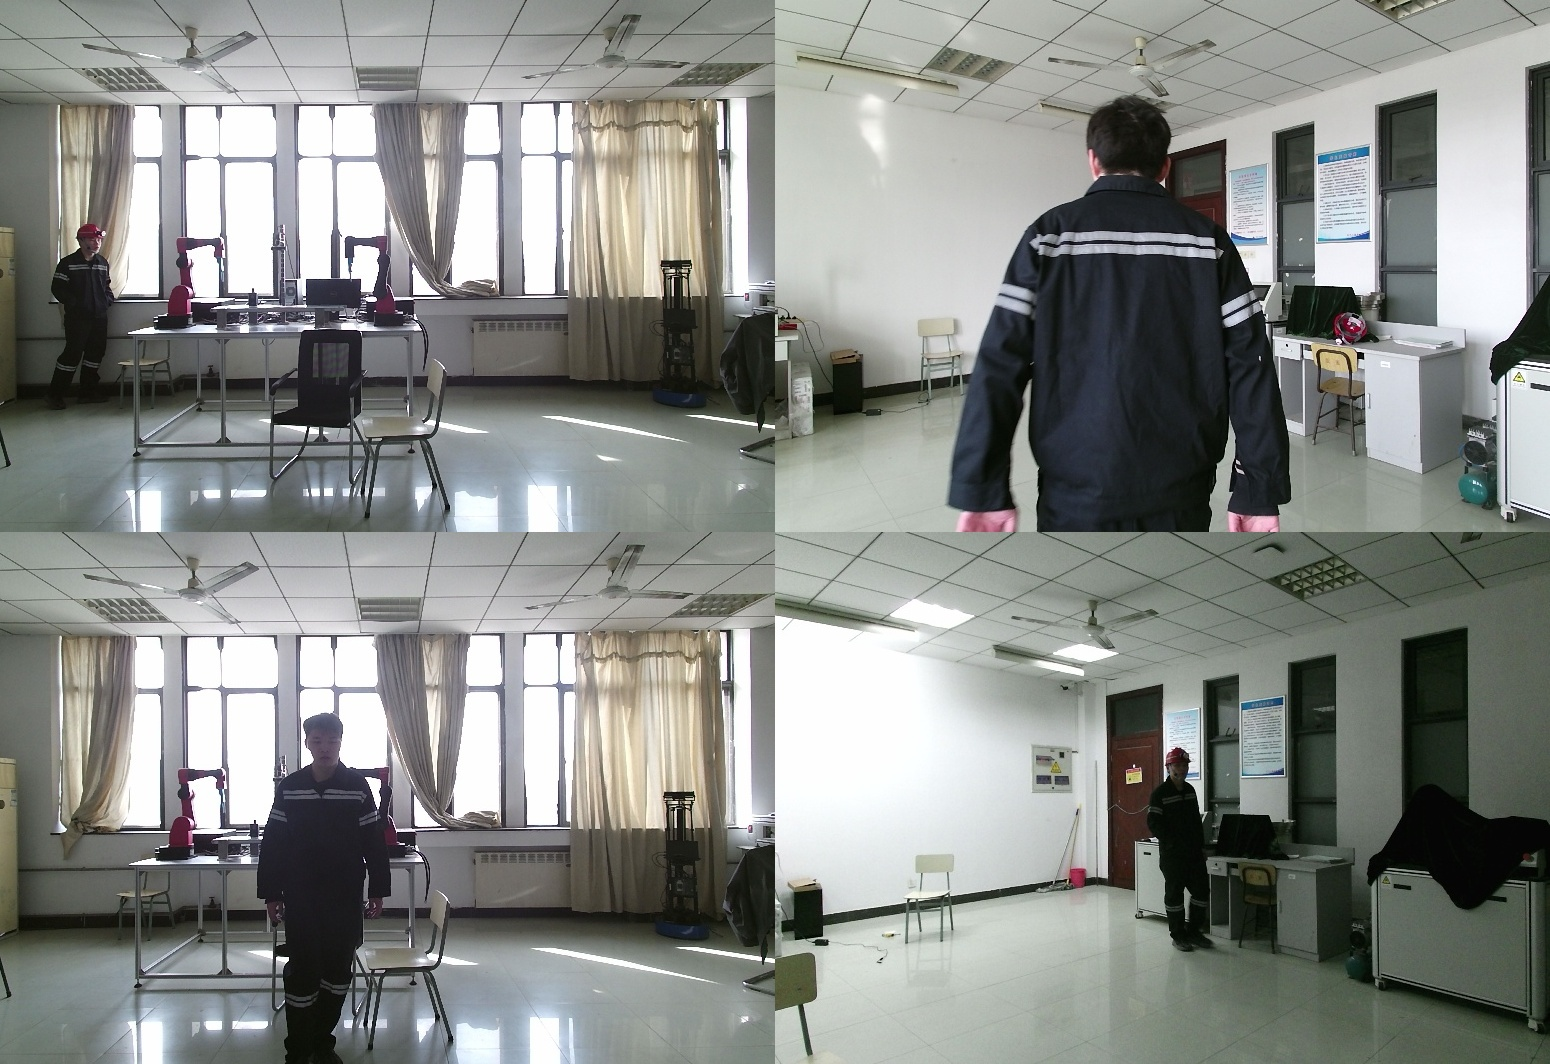person: (945, 94, 1291, 532), (262, 712, 399, 1064), (45, 222, 116, 409), (1143, 749, 1205, 956)
